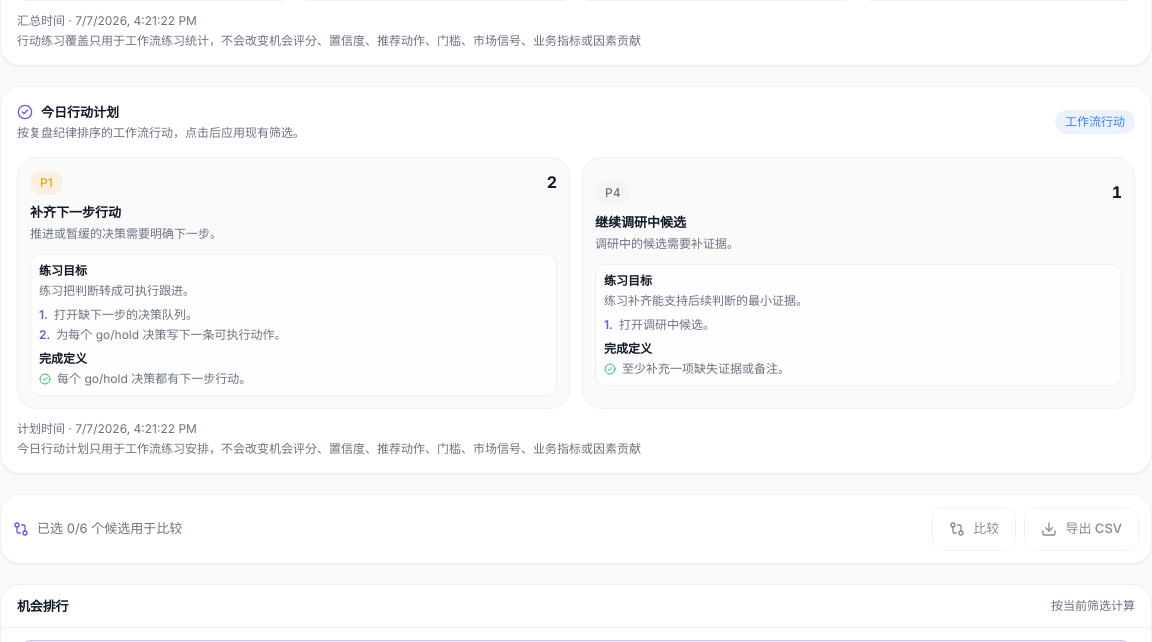
Test: Opportunities page › clears daily action context after a manual filter edit
(page scrolled)
Click the button with aria-label "应用行动：补齐下一步行动": (294, 283) [17,157,570,408]
(page scrolled)
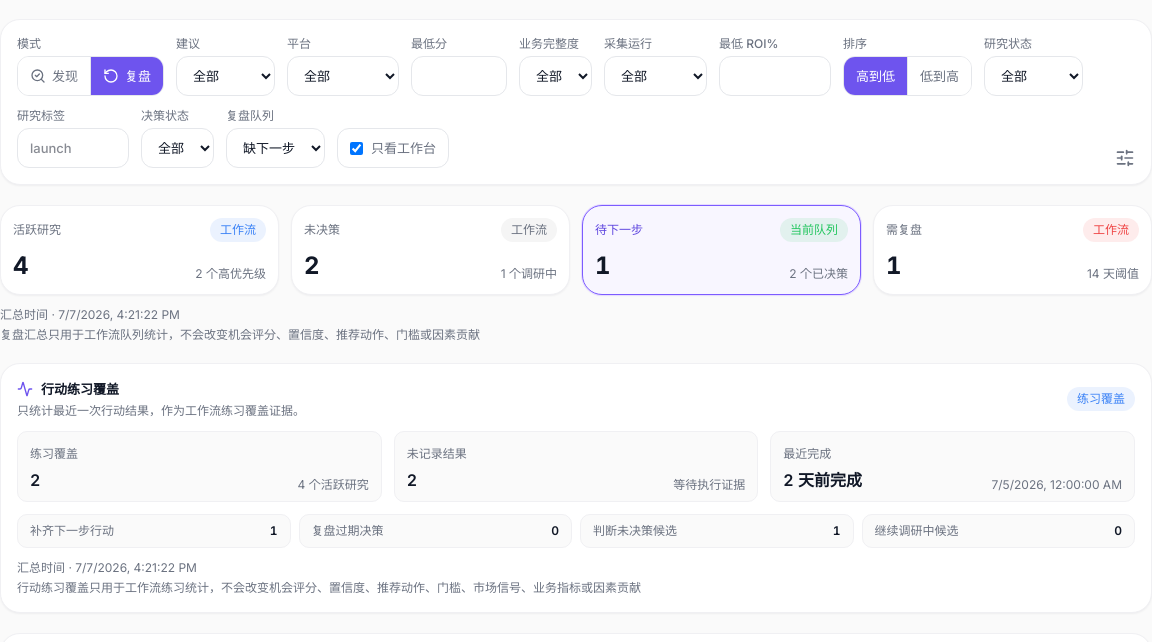
Select "持续观察" in the dropdown named "推荐动作筛选": (226, 76) [176,56,275,96]
(page scrolled)
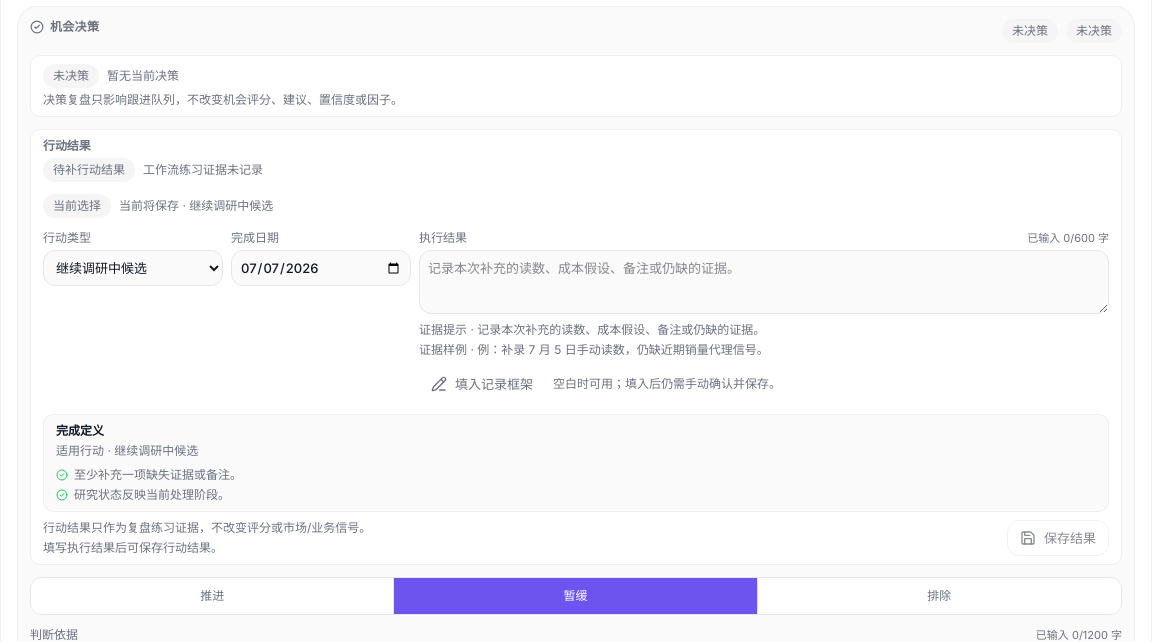
Check: the dropdown named "选择行动结果类型" shows "继续调研中候选", box [43,250,223,286]
